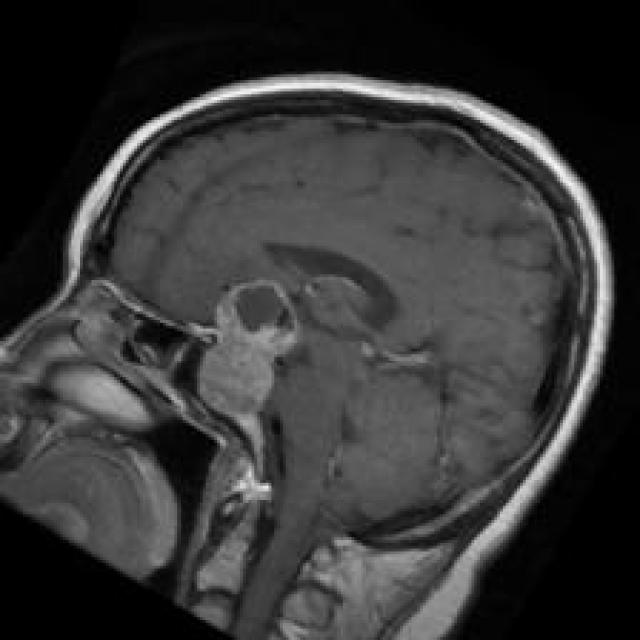pituitary_tumor: (193, 267, 309, 444)
